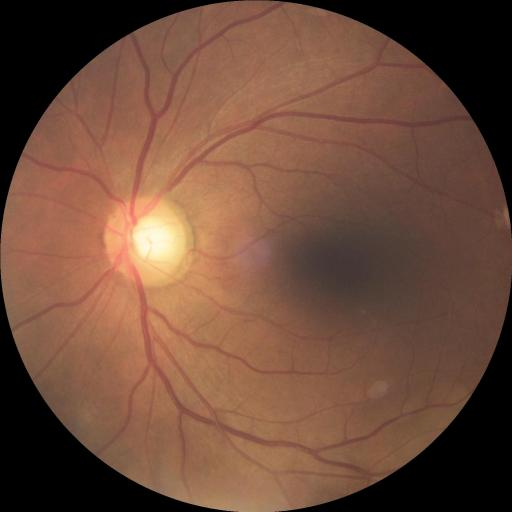Optic Cup: (130, 216, 178, 258)
Optic Disc: (104, 197, 194, 286)
